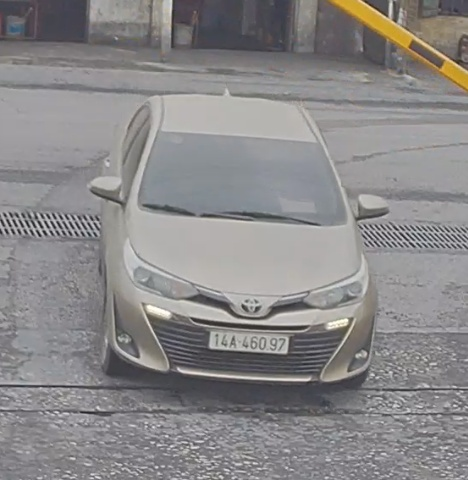vehicle plate: (206, 325, 299, 353)
